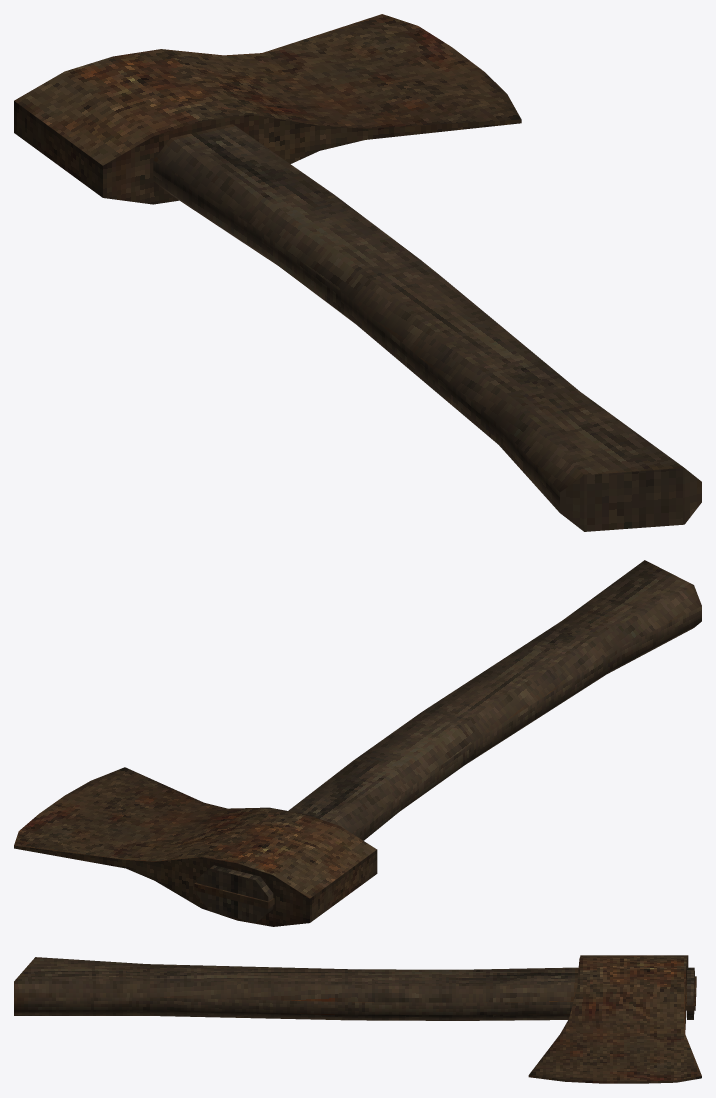
Rendered from axe_mx_1_1.glb.
3 views of the same model, one above another, from view 1: azimuth 30°, elevation 25°; view 2: azimuth 150°, elevation 25°; view 3: azimuth 270°, elevation 25° (orthographic). The views are drawn at different scales.
Parts seen in each view (by area): view 1: axe_mx_1_1; view 2: axe_mx_1_1; view 3: axe_mx_1_1.
Boxes of the visible parts, left/top/right/bottom form: axe_mx_1_1: left=14, top=14, right=701, bottom=531; axe_mx_1_1: left=14, top=560, right=701, bottom=926; axe_mx_1_1: left=14, top=955, right=701, bottom=1083.
Bounding box in the file's own units: 0.2641 × 0.048 × 0.6527.
1 material, 1 textured.
